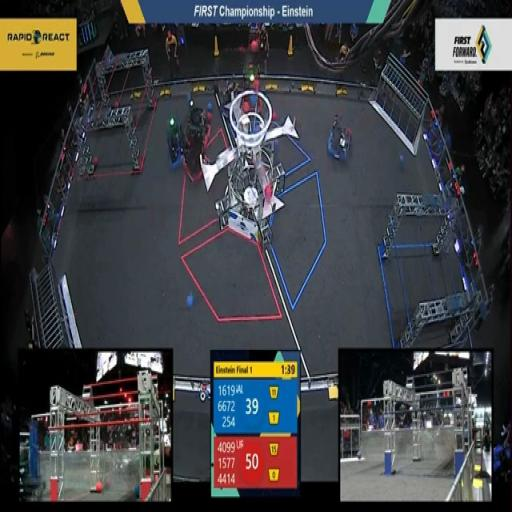robot: (184, 88, 216, 150), (182, 130, 212, 190), (160, 110, 188, 172), (237, 61, 262, 119), (325, 113, 352, 165), (219, 69, 241, 119)
